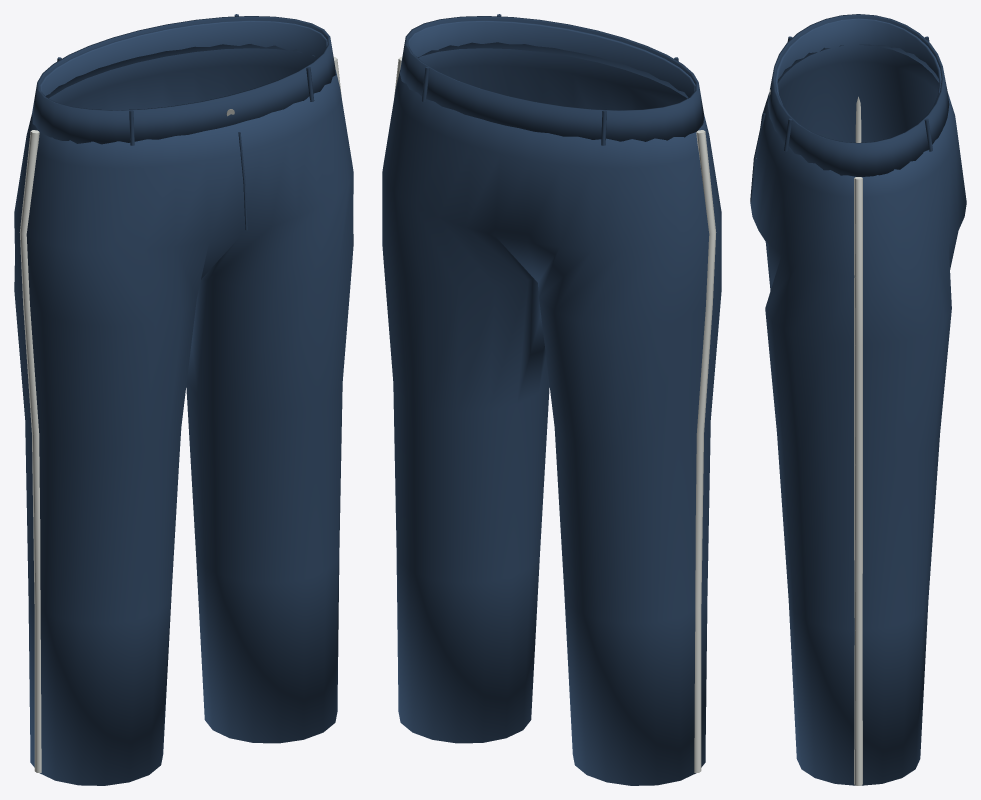
Rendered from pants_track.glb.
The picture shows the model from 3 angles, left to right: view 1: azimuth 30°, elevation 25°; view 2: azimuth 150°, elevation 25°; view 3: azimuth 270°, elevation 25°; orthographic projection. The views are drawn at different scales.
Parts seen in each view (by area): view 1: Track_Pants_Connected_Hips_And_Legs, Track_Pants_Waistband, Track_Pants_Side_Stripe; view 2: Track_Pants_Connected_Hips_And_Legs, Track_Pants_Waistband, Track_Pants_Side_Stripe; view 3: Track_Pants_Connected_Hips_And_Legs, Track_Pants_Waistband, Track_Pants_Side_Stripe.001.
Boxes of the visible parts, left/top/right/bottom form: Track_Pants_Connected_Hips_And_Legs: left=14, top=20, right=353, bottom=785; Track_Pants_Waistband: left=32, top=16, right=335, bottom=144; Track_Pants_Side_Stripe: left=19, top=130, right=41, bottom=772; Track_Pants_Connected_Hips_And_Legs: left=382, top=20, right=721, bottom=785; Track_Pants_Waistband: left=400, top=16, right=703, bottom=141; Track_Pants_Side_Stripe: left=694, top=130, right=716, bottom=772; Track_Pants_Connected_Hips_And_Legs: left=750, top=18, right=966, bottom=785; Track_Pants_Waistband: left=767, top=14, right=949, bottom=176; Track_Pants_Side_Stripe.001: left=854, top=177, right=862, bottom=785.
Size of the model in its own units: 0.4864 by 0.9615 by 0.2948.
